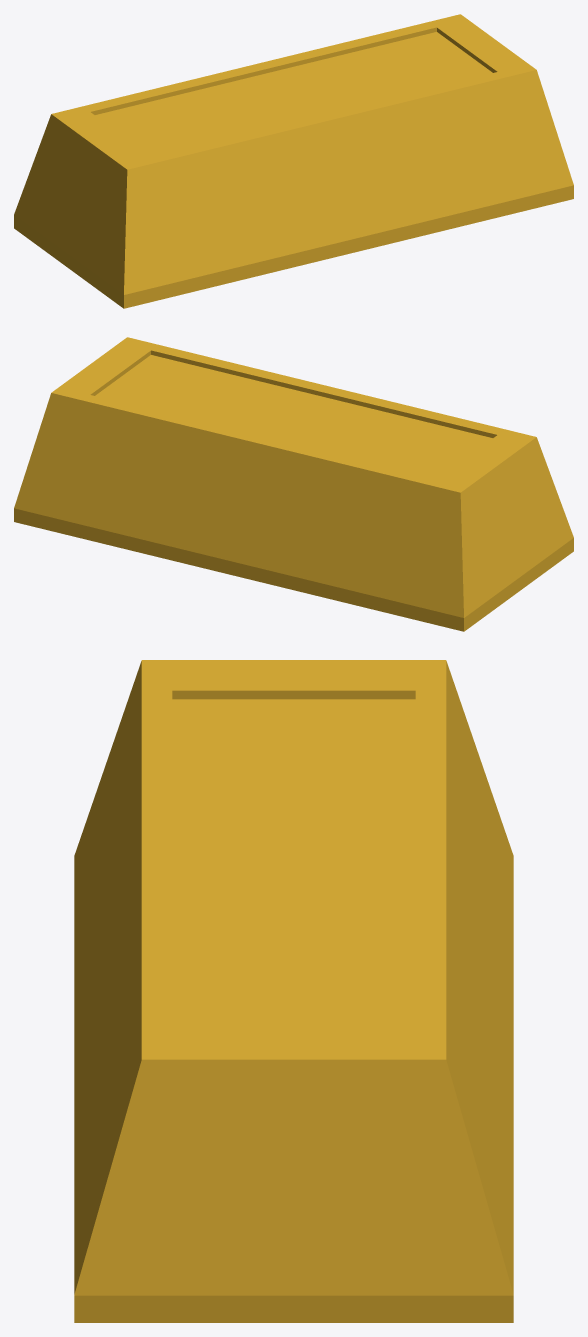
The model's file is zloto_dla_szerokiej.fbx.
3 views of the same model, one above another, from view 1: azimuth 30°, elevation 25°; view 2: azimuth 150°, elevation 25°; view 3: azimuth 270°, elevation 25° (orthographic). The views are drawn at different scales.
Parts seen in each view (by area): view 1: Cube; view 2: Cube; view 3: Cube.
Boxes of the visible parts, x1,y1,x2,y2 form: Cube: (14, 14, 573, 308); Cube: (14, 337, 573, 631); Cube: (74, 660, 513, 1322).
Bounding box in the file's own units: 91.5 × 23.65 × 38.7.
